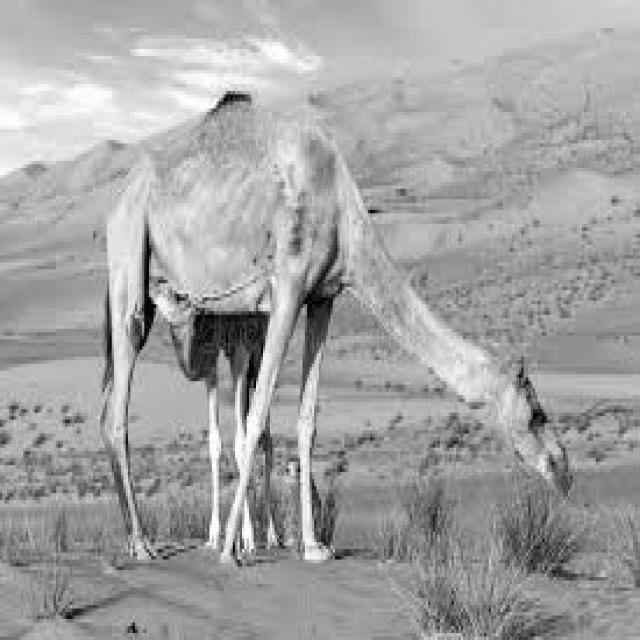Camel: (95, 88, 572, 566)
